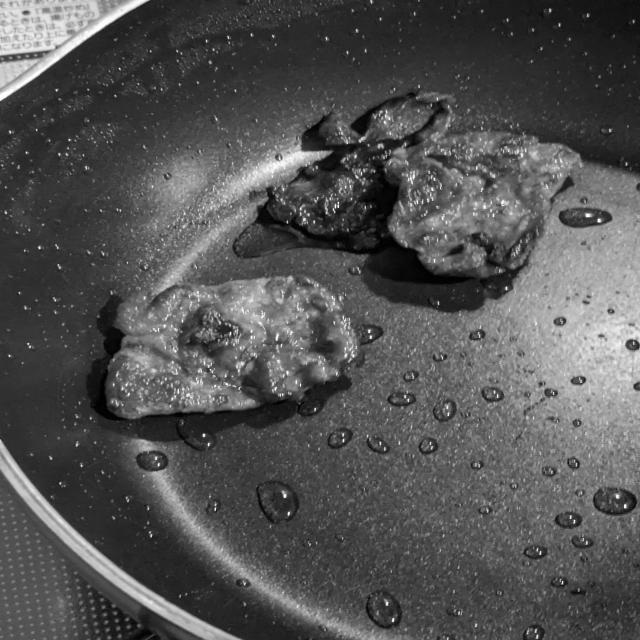overcooked pork: (250, 87, 594, 284), (96, 266, 376, 426)
